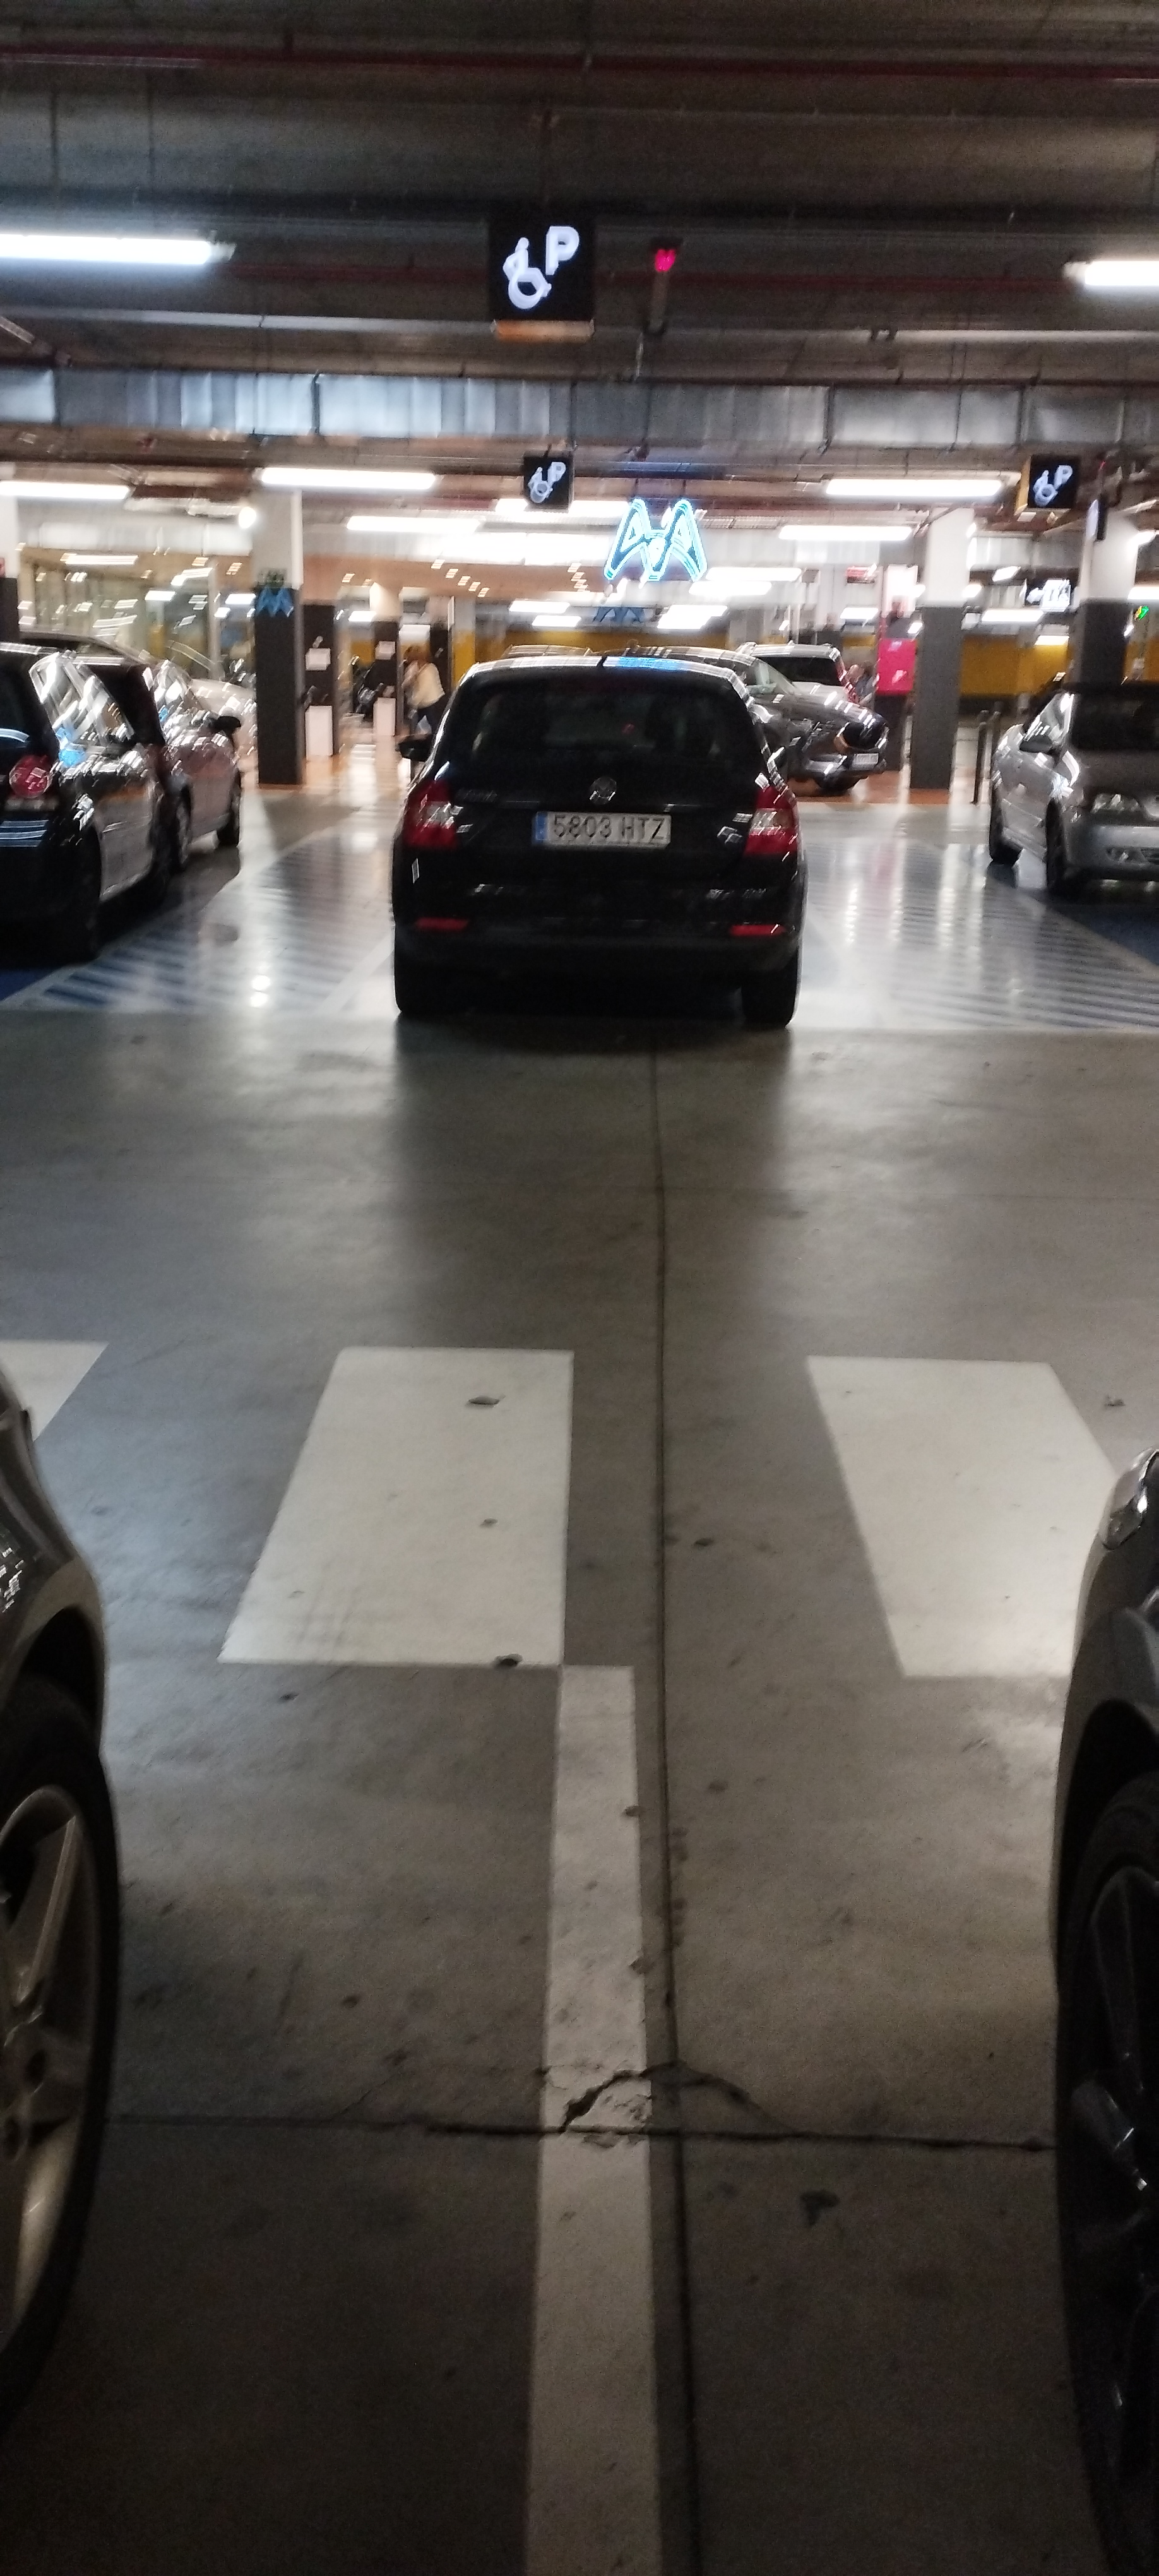Car: (369, 647, 808, 1035)
Plate: (528, 809, 673, 845)
